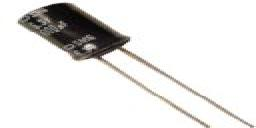Electrolytic-Capacitor: (19, 1, 256, 125)
